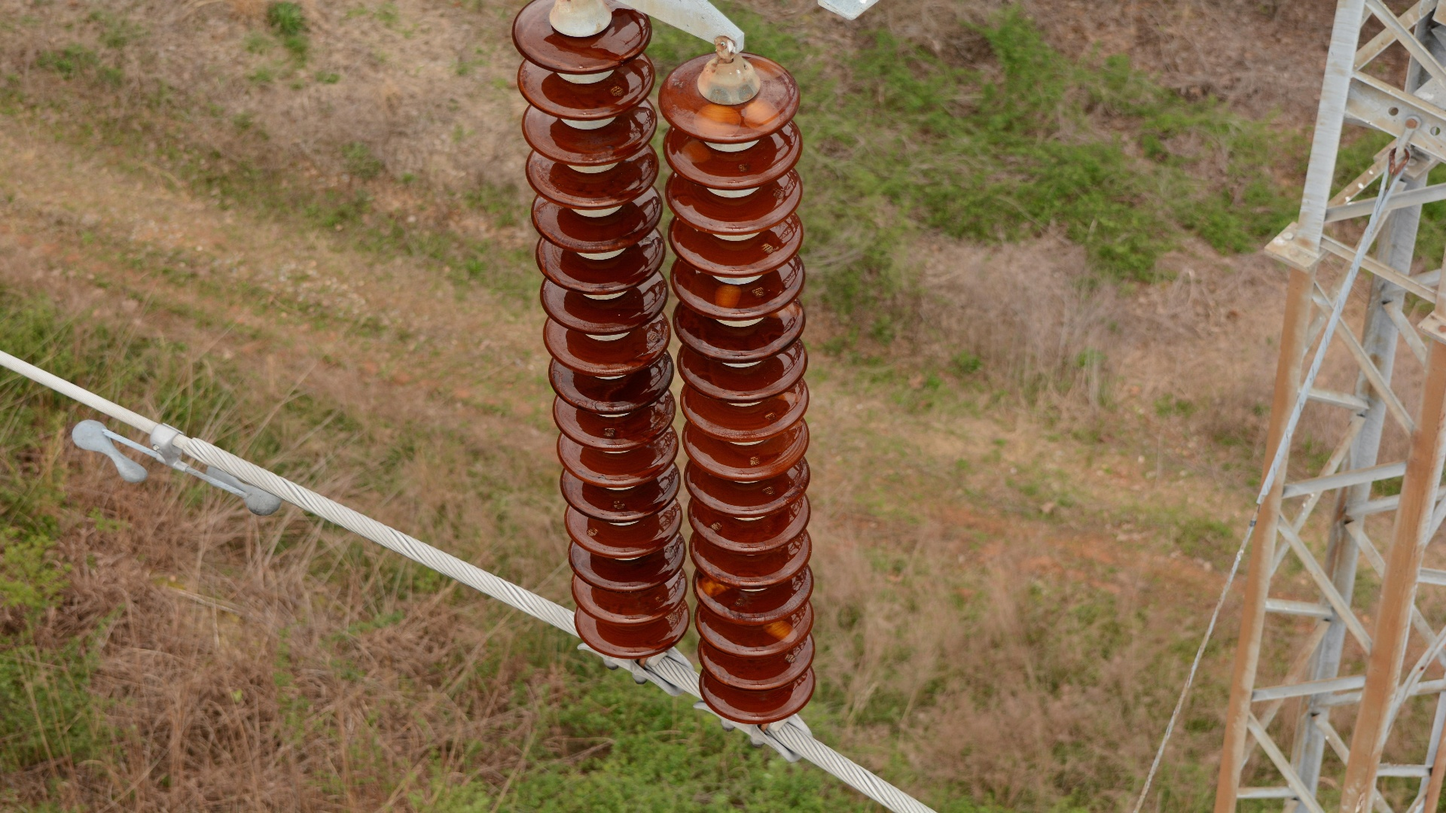damper: (67, 414, 291, 521)
